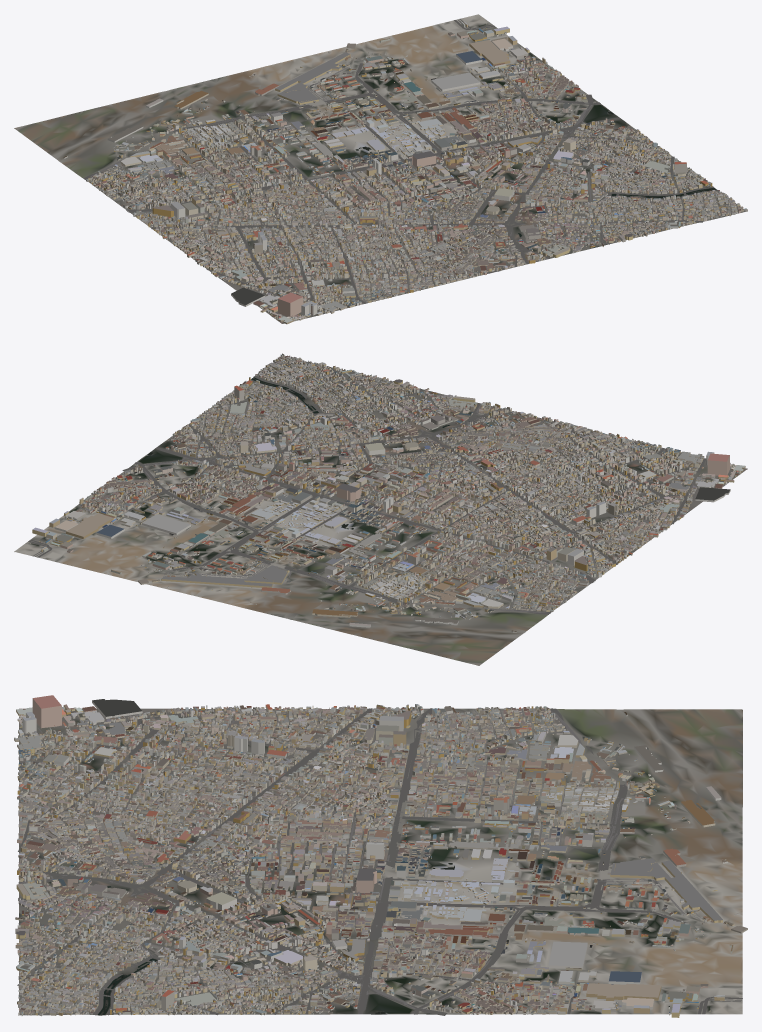
The picture shows the model from 3 angles, top to bottom: view 1: azimuth 30°, elevation 25°; view 2: azimuth 150°, elevation 25°; view 3: azimuth 270°, elevation 25°; orthographic projection. The views are drawn at different scales.
Visible parts, largest first — view 1: buildings, ground, roads; view 2: buildings, ground, roads; view 3: buildings, ground, roads.
Boxes of the visible parts, x1,y1,x2,y2 form: buildings: (63, 21, 747, 324); ground: (14, 14, 744, 323); roads: (83, 19, 744, 313); buildings: (30, 353, 745, 632); ground: (14, 361, 747, 665); roads: (28, 362, 706, 614); buildings: (14, 695, 747, 1017); ground: (19, 708, 742, 1015); roads: (17, 708, 742, 1015).
Bounding box in the file's own units: 2903 × 88.95 × 2840.
